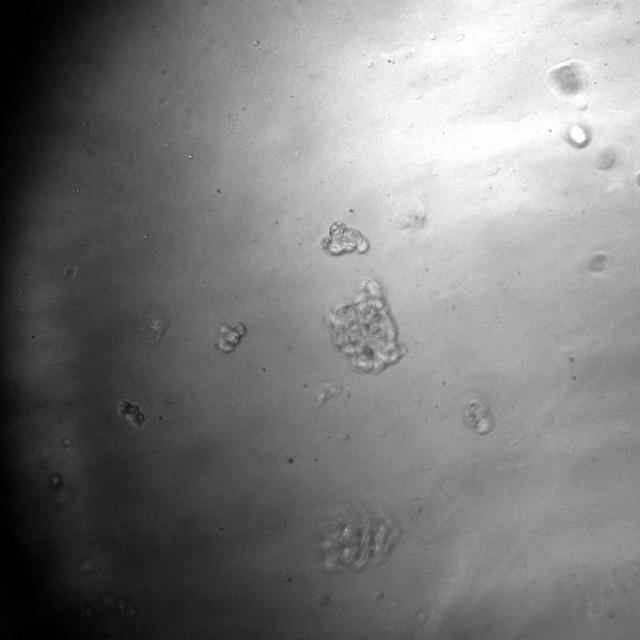organoid: (330, 280, 406, 372), (321, 508, 399, 570), (545, 59, 588, 99), (321, 221, 369, 255), (462, 398, 493, 434), (118, 398, 148, 427), (218, 323, 246, 353), (565, 123, 590, 148)
